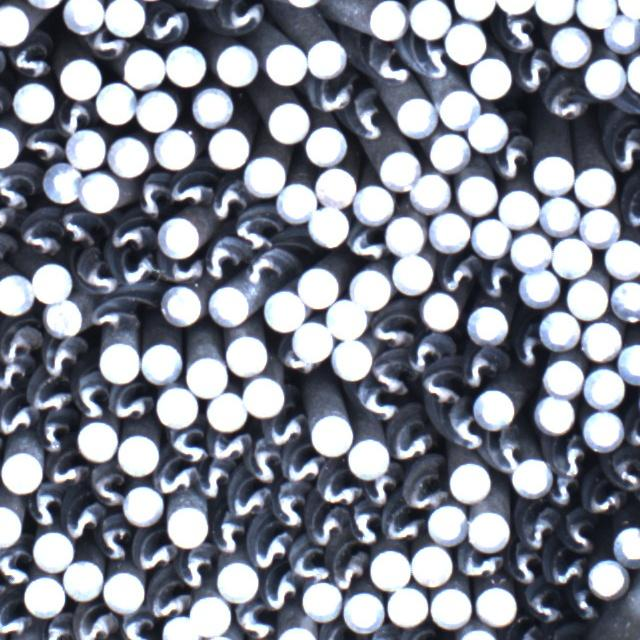tool: (155, 216, 203, 261), (58, 54, 102, 99), (153, 125, 199, 168), (134, 87, 178, 131), (342, 588, 386, 632), (583, 365, 628, 408), (409, 543, 453, 586), (11, 79, 55, 122), (467, 55, 511, 98), (206, 125, 250, 168), (0, 449, 43, 493), (154, 386, 200, 427), (164, 43, 207, 86), (107, 135, 150, 178), (391, 251, 434, 294), (121, 45, 164, 88), (474, 582, 517, 625), (348, 267, 391, 310), (214, 43, 258, 85), (345, 435, 389, 477), (160, 283, 204, 325), (207, 283, 251, 325), (32, 527, 73, 572), (550, 23, 592, 66), (264, 41, 306, 84), (565, 276, 608, 318), (580, 318, 623, 360), (445, 20, 487, 63), (166, 503, 208, 546), (262, 288, 305, 330), (244, 154, 287, 196), (296, 264, 339, 306), (418, 289, 461, 331), (537, 306, 579, 349), (387, 582, 428, 626), (22, 573, 63, 617), (302, 123, 346, 164), (581, 409, 625, 450), (41, 161, 81, 206), (190, 84, 232, 126), (427, 130, 469, 172), (467, 508, 509, 550), (225, 332, 267, 374), (116, 433, 158, 475), (550, 235, 592, 277), (429, 585, 471, 627), (242, 375, 284, 417), (447, 460, 489, 502), (189, 593, 231, 635), (102, 570, 144, 612), (79, 169, 120, 212), (409, 171, 450, 214), (469, 217, 510, 260), (510, 226, 551, 269), (217, 558, 258, 601), (141, 340, 182, 383), (95, 80, 135, 124), (331, 337, 371, 381), (428, 209, 469, 251), (65, 126, 106, 168), (583, 56, 624, 98), (184, 354, 225, 396), (76, 418, 117, 460), (266, 101, 308, 142), (384, 212, 426, 253), (273, 181, 315, 222), (585, 557, 626, 599), (290, 322, 332, 363), (533, 152, 575, 193), (533, 392, 575, 433), (466, 304, 508, 345), (474, 387, 515, 429), (601, 235, 640, 279), (498, 187, 539, 228), (315, 164, 356, 205), (310, 413, 351, 454), (518, 266, 559, 307), (62, 559, 103, 600), (301, 580, 342, 621), (307, 205, 347, 247), (455, 173, 495, 215), (466, 110, 508, 150), (369, 547, 409, 589), (31, 259, 71, 301), (578, 205, 620, 245), (574, 164, 616, 204), (204, 391, 245, 431), (427, 503, 467, 544), (99, 342, 140, 382), (326, 298, 367, 338), (437, 87, 475, 130), (123, 483, 163, 523), (354, 182, 394, 222), (512, 457, 552, 497), (394, 97, 435, 136), (379, 149, 420, 188), (408, 0, 450, 38), (103, 0, 146, 37), (539, 194, 578, 234), (601, 14, 640, 54), (367, 0, 407, 39), (543, 357, 583, 396), (307, 37, 345, 78), (44, 299, 83, 337), (62, 0, 106, 33), (609, 276, 640, 320), (0, 272, 32, 314), (0, 4, 29, 45), (575, 0, 616, 27), (612, 524, 640, 563), (160, 613, 199, 640), (616, 340, 640, 383), (533, 0, 574, 24), (0, 503, 22, 545), (0, 124, 19, 167), (453, 0, 495, 19)
tool_b: (386, 406, 434, 463), (20, 206, 64, 259), (437, 406, 484, 453), (70, 246, 116, 294), (145, 572, 191, 620), (362, 41, 409, 87), (6, 35, 53, 80), (90, 295, 153, 328), (133, 525, 178, 571), (348, 92, 390, 140), (370, 348, 411, 397), (403, 464, 446, 510), (143, 3, 189, 45), (517, 583, 564, 624), (347, 499, 384, 551), (247, 521, 287, 569), (547, 73, 586, 122), (64, 489, 100, 542), (513, 506, 557, 549), (462, 344, 506, 387), (419, 361, 461, 406), (59, 204, 105, 245), (305, 503, 346, 549), (370, 310, 416, 351), (309, 73, 355, 114), (229, 600, 276, 640), (247, 438, 287, 485), (17, 125, 66, 163), (212, 0, 268, 33), (353, 380, 398, 421), (0, 163, 40, 209), (97, 513, 133, 564), (269, 482, 308, 529), (315, 466, 362, 505), (458, 545, 507, 582), (134, 169, 169, 220), (169, 165, 211, 206), (26, 371, 69, 411), (282, 447, 326, 486), (437, 255, 481, 294), (208, 234, 246, 279), (609, 121, 640, 176), (234, 207, 275, 248), (260, 571, 300, 613), (110, 215, 154, 253), (543, 551, 588, 588), (87, 462, 123, 508), (41, 337, 81, 378), (514, 52, 550, 97), (559, 508, 594, 554), (228, 476, 268, 516), (410, 331, 451, 370), (289, 539, 327, 581), (0, 323, 37, 366), (0, 393, 37, 436), (25, 486, 62, 529), (505, 547, 545, 586), (411, 41, 451, 80), (73, 374, 111, 415), (54, 98, 92, 139), (74, 603, 116, 640), (0, 539, 33, 586), (481, 259, 516, 303), (117, 250, 160, 285), (38, 411, 72, 455), (261, 412, 305, 446), (159, 253, 207, 284), (498, 139, 534, 180), (379, 511, 425, 543), (244, 249, 288, 282), (331, 552, 368, 591), (89, 27, 132, 60), (548, 472, 585, 510), (350, 225, 388, 262), (564, 586, 603, 622), (210, 514, 246, 553), (112, 386, 153, 420), (512, 329, 546, 370), (212, 179, 245, 221), (45, 456, 87, 488), (183, 545, 212, 591), (605, 451, 640, 489), (557, 436, 589, 477), (503, 16, 538, 53), (195, 463, 230, 500), (486, 434, 519, 473), (154, 462, 191, 495), (362, 473, 399, 506), (588, 487, 626, 518), (0, 598, 30, 635), (118, 613, 159, 640), (208, 434, 246, 463), (39, 613, 78, 640), (0, 358, 25, 391), (622, 89, 640, 117)
